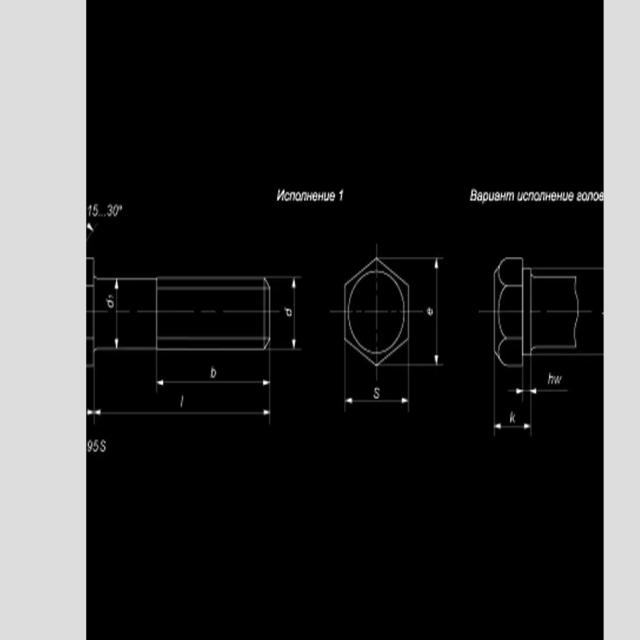marking_line: (93, 408, 270, 417), (156, 379, 270, 386), (345, 397, 409, 407), (290, 277, 299, 348), (113, 280, 121, 350), (434, 260, 439, 366), (509, 387, 570, 394), (496, 424, 531, 430)
numeric: (88, 202, 125, 219), (87, 439, 108, 457), (547, 368, 564, 386), (104, 296, 117, 309), (283, 303, 294, 318), (507, 411, 517, 426), (208, 365, 217, 379), (373, 384, 380, 400), (177, 394, 185, 407)
